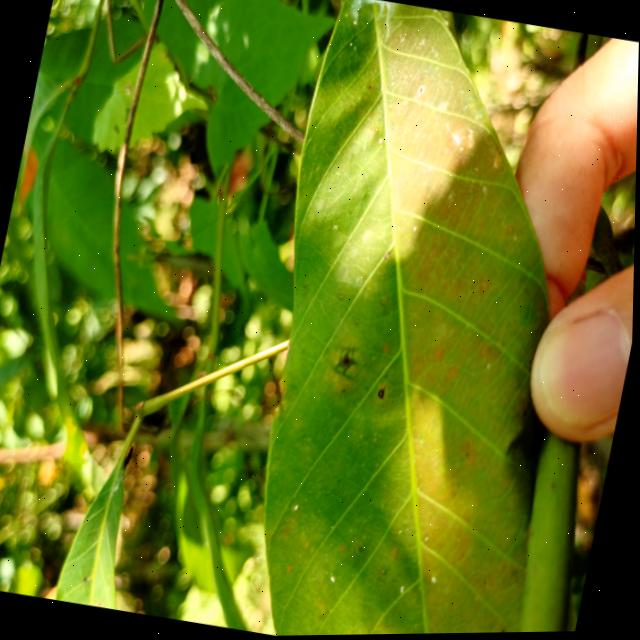Colletotrichum: (377, 388, 386, 400)
Corynespora: (329, 344, 361, 382)
